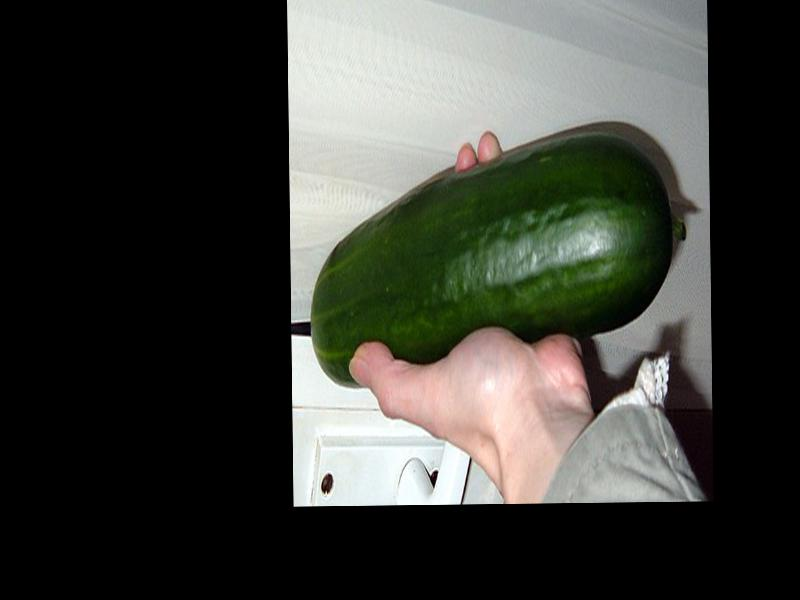Cucumber: (308, 122, 688, 386)
